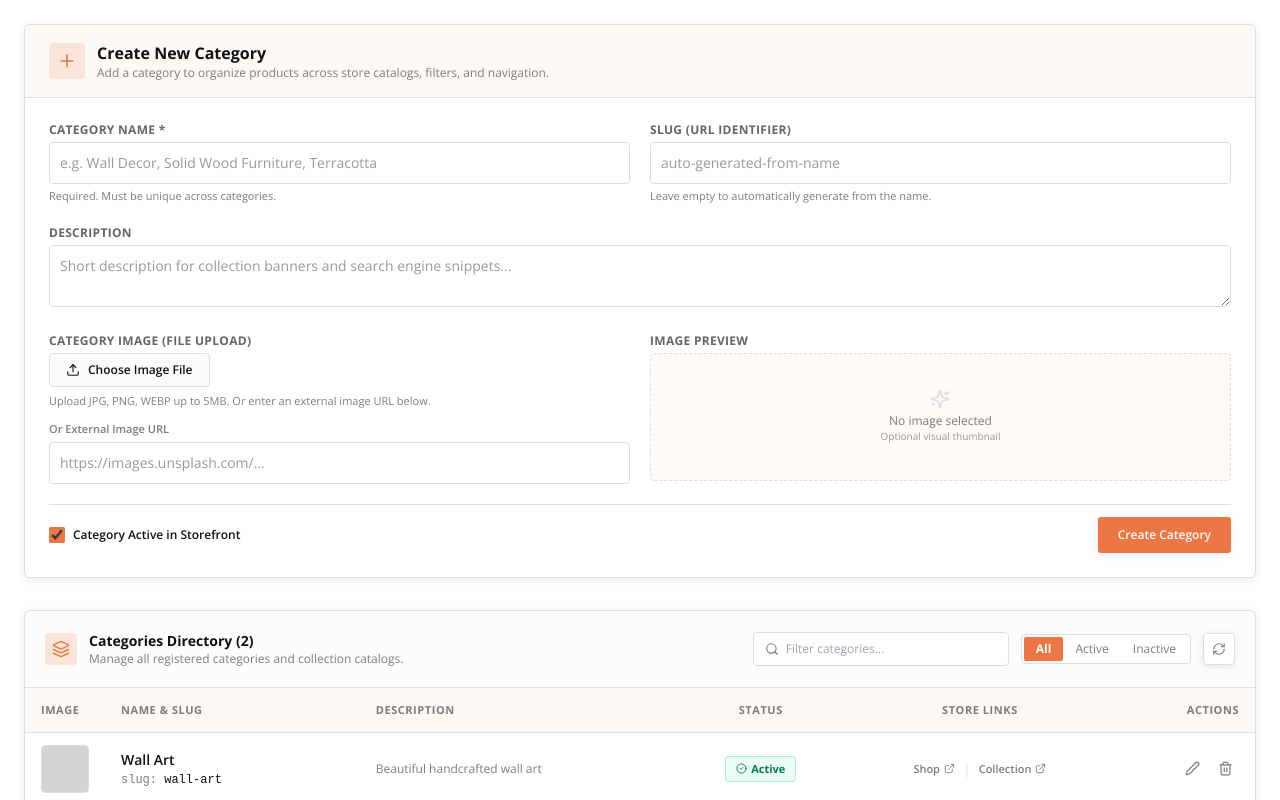
CategoriesTable Admin Component › populates form for editing when edit button is clicked
The image size is (1280, 800).
Expected: the text "Wall Art" is shown, [121,750,175,768]
Click the button titled "Edit category". click: (1192, 768)
box: [1179,755,1206,782]
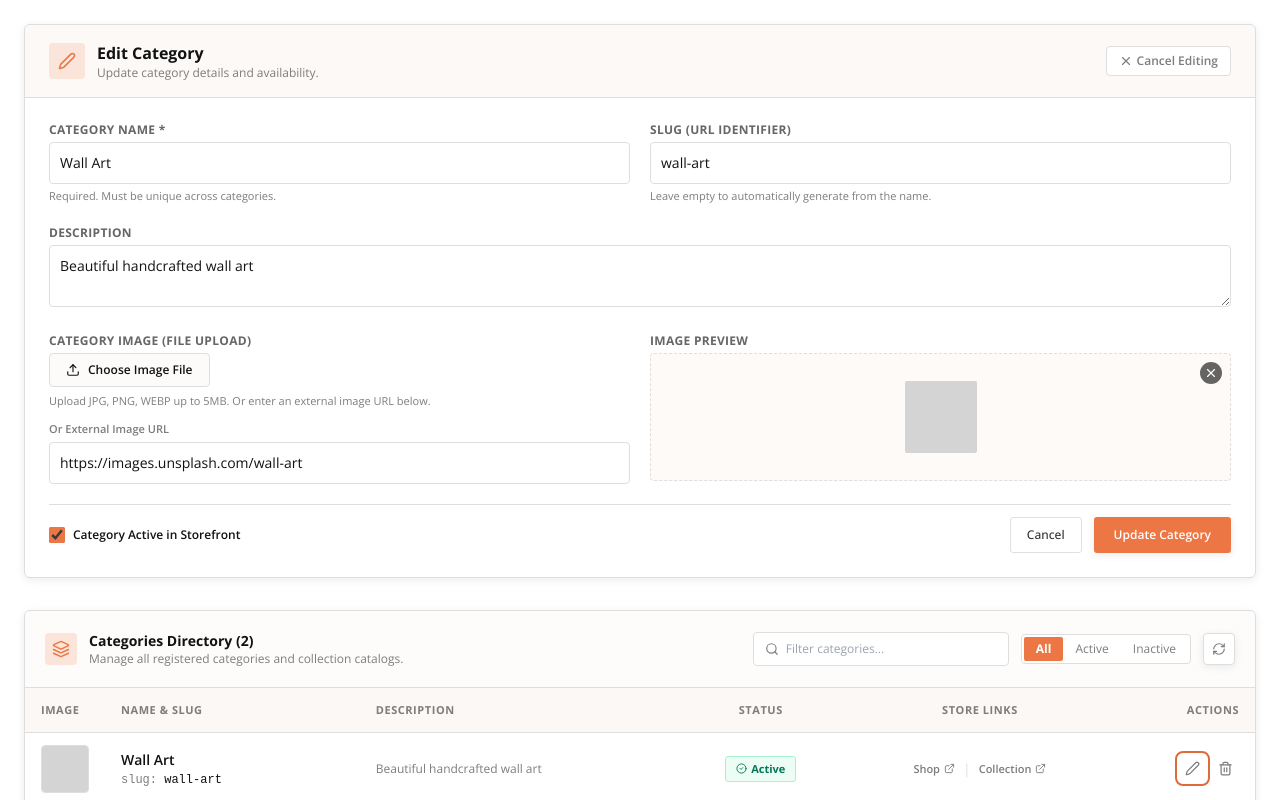
Expected: the heading "Edit Category" is shown, [97,42,204,64]
Expected: the field with placeholder "e.g. Wall Decor, Solid Wood Furniture, Terracotta" holds "Wall Art", [49,142,630,184]
Expected: the button "Update Category" is shown, [1094,516,1231,552]
